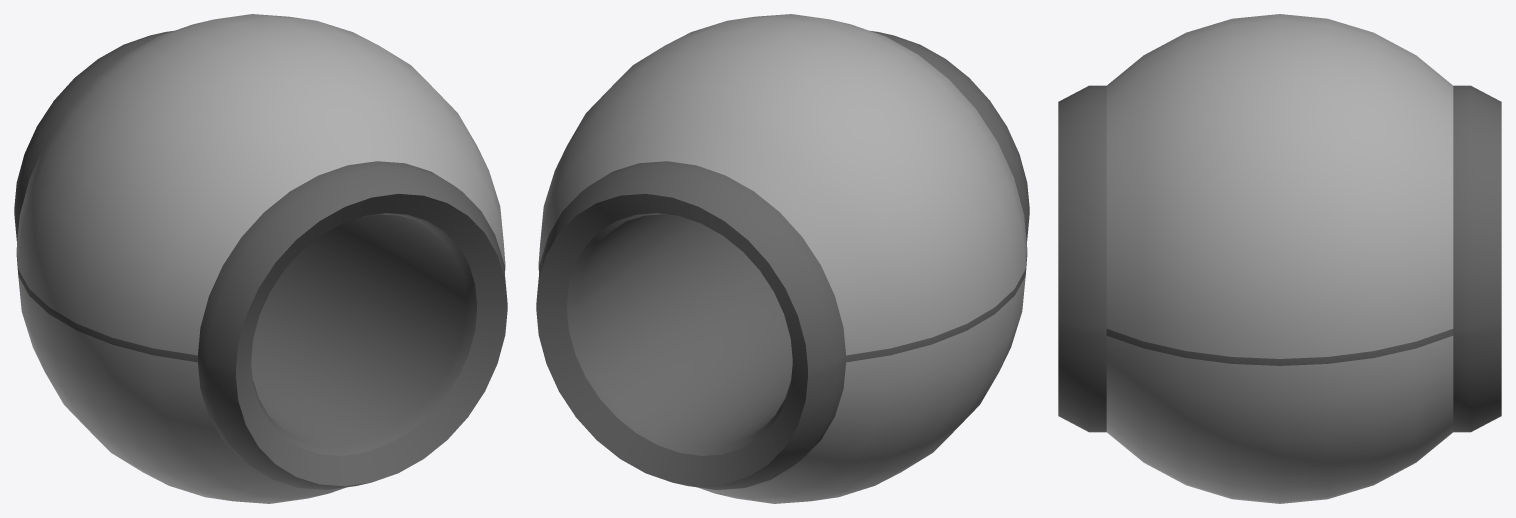
The model's file is House Open.glb.
3 renders of one model, left to right at view 1: azimuth 30°, elevation 25°; view 2: azimuth 150°, elevation 25°; view 3: azimuth 270°, elevation 25°, orthographic.
Parts seen in each view (by area): view 1: House_Open; view 2: House_Open; view 3: House_Open.
Part boxes in pixels (x1,y1,x2,y2): House_Open: [14, 14, 507, 503]; House_Open: [536, 14, 1029, 503]; House_Open: [1058, 14, 1501, 503].
Bounding box in the file's own units: 3.99 × 4 × 3.61.
1 material, 1 textured.
